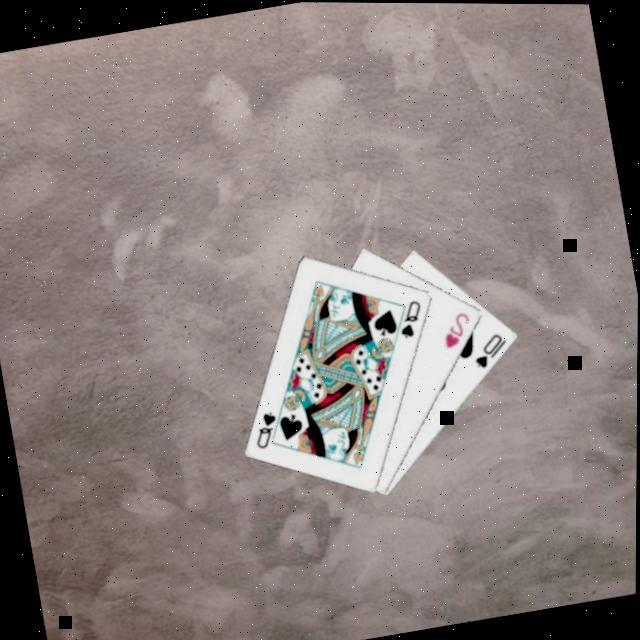10S: (467, 326, 512, 370)
2H: (436, 304, 476, 349)
QS: (392, 292, 428, 340), (247, 404, 283, 450)
